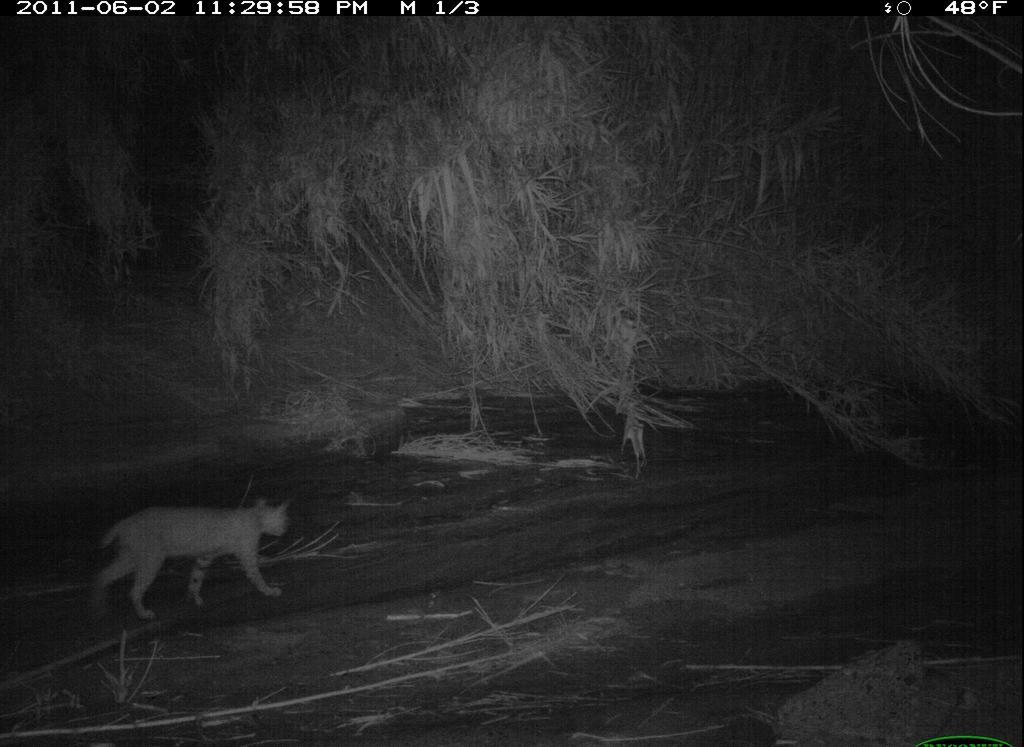bobcat: (77, 488, 297, 628)
